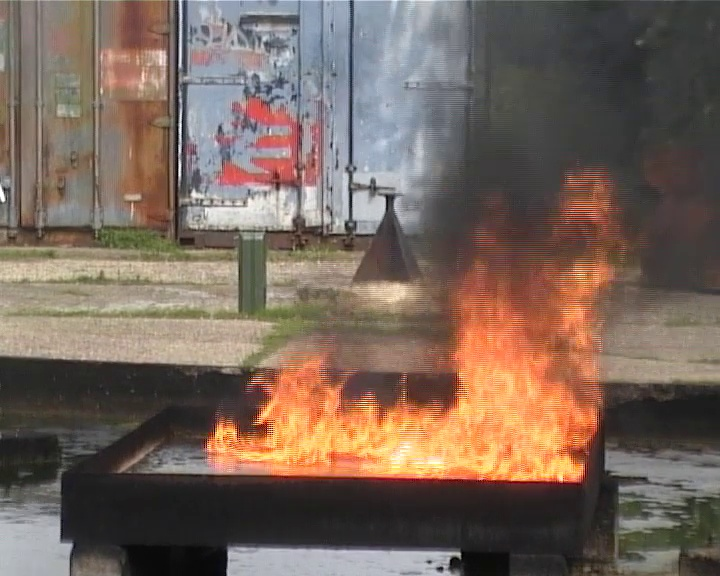fire: (209, 244, 613, 480)
